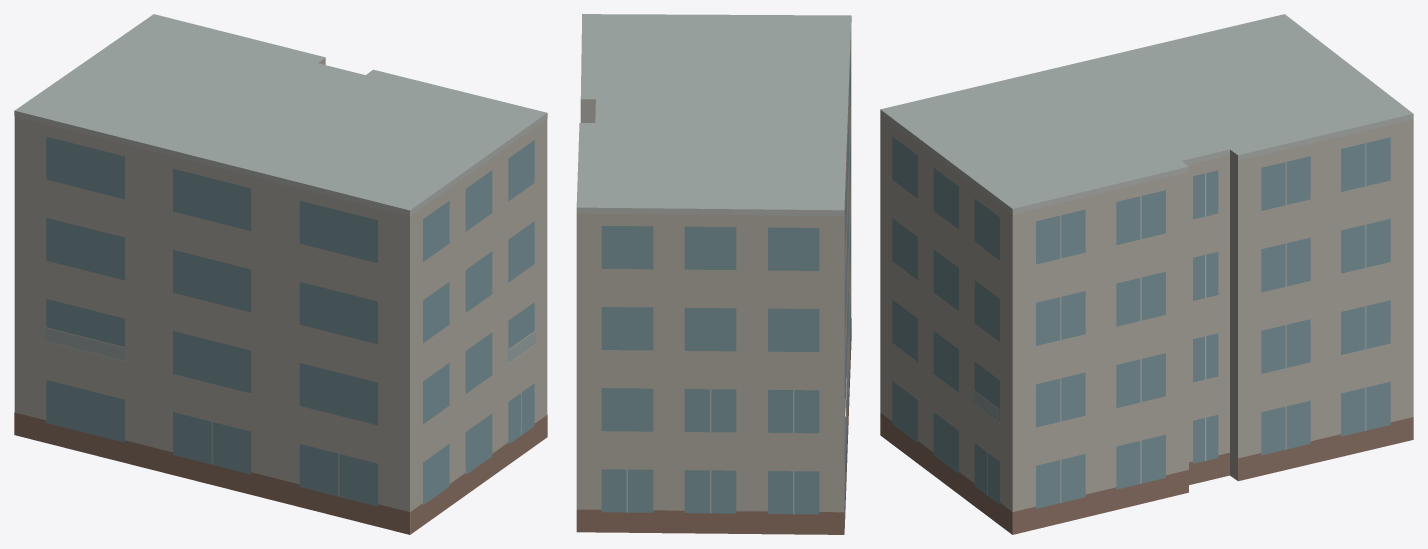
The model's file is survey-upis-32980931.glb.
3 renders of one model, left to right at view 1: azimuth 30°, elevation 25°; view 2: azimuth 150°, elevation 25°; view 3: azimuth 270°, elevation 25°, orthographic.
Parts seen in each view (by area): view 1: survey-upis-32980931.tmp; view 2: survey-upis-32980931.tmp; view 3: survey-upis-32980931.tmp.
Boxes of the visible parts, bbox=[...] form: survey-upis-32980931.tmp: bbox=[14, 14, 547, 534]; survey-upis-32980931.tmp: bbox=[576, 14, 851, 534]; survey-upis-32980931.tmp: bbox=[880, 14, 1413, 534].
Bounding box in the file's own units: 17.45 × 13.6 × 20.18.
